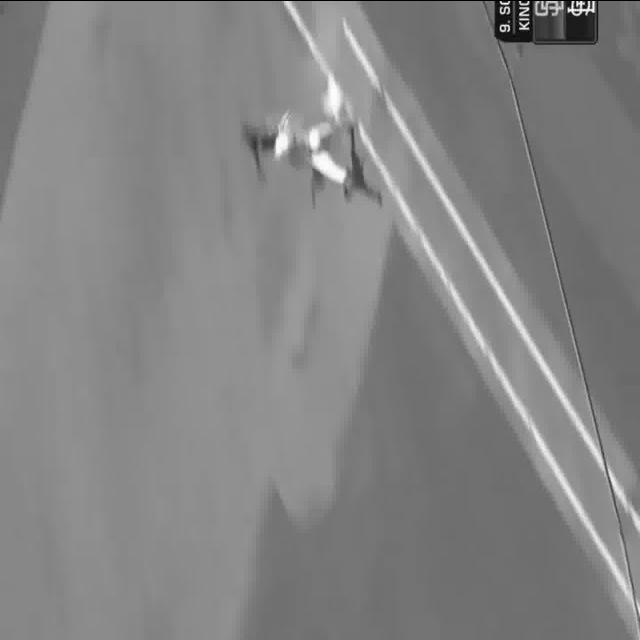base: (324, 74, 342, 120)
shoe: (345, 172, 356, 202), (343, 118, 358, 133)
